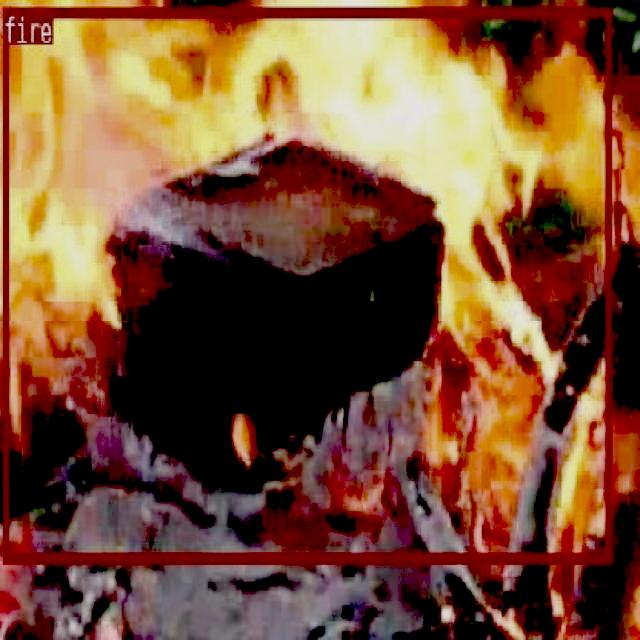fire: (2, 6, 610, 562)
